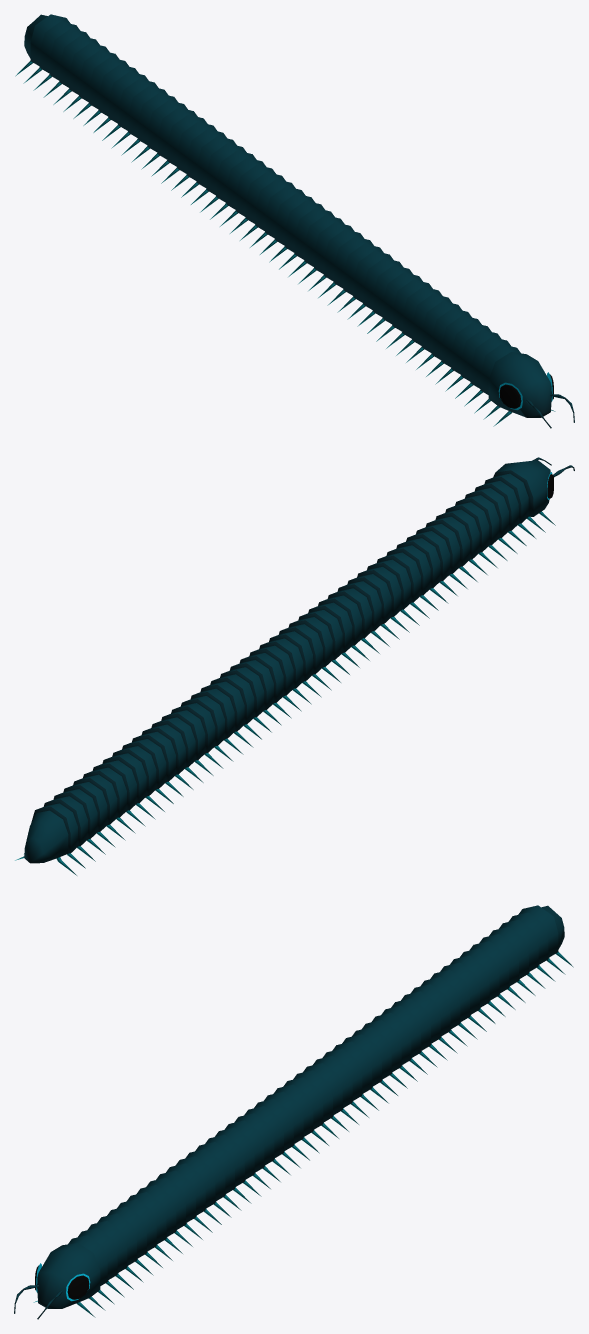
The model's file is Insects_Millipede.fbx.
3 views of the same model, one above another, from view 1: azimuth 30°, elevation 25°; view 2: azimuth 150°, elevation 25°; view 3: azimuth 330°, elevation 25° (orthographic).
Visible parts, largest first — view 1: base; view 2: base; view 3: base.
Boxes of the visible parts, left/top/right/bottom form: base: left=15, top=14, right=574, bottom=428; base: left=15, top=457, right=574, bottom=875; base: left=14, top=905, right=573, bottom=1319.
Size of the model in its own units: 29.02 by 25.47 by 419.
